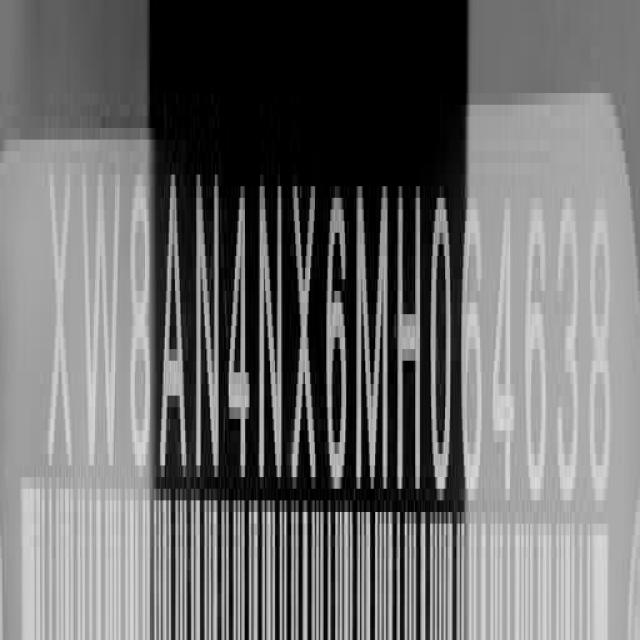0: (430, 180, 456, 512)
3: (555, 198, 581, 515)
4: (493, 192, 520, 518), (227, 167, 252, 489)
6: (524, 197, 550, 514), (324, 178, 349, 502), (461, 185, 483, 516)
8: (130, 165, 156, 485), (590, 201, 616, 512)
A: (161, 160, 187, 487)
H: (397, 176, 425, 506)
M: (356, 177, 393, 507)
N: (195, 163, 222, 491), (260, 171, 285, 494)
W: (81, 157, 123, 483)
X: (44, 161, 74, 481), (293, 174, 320, 501)
